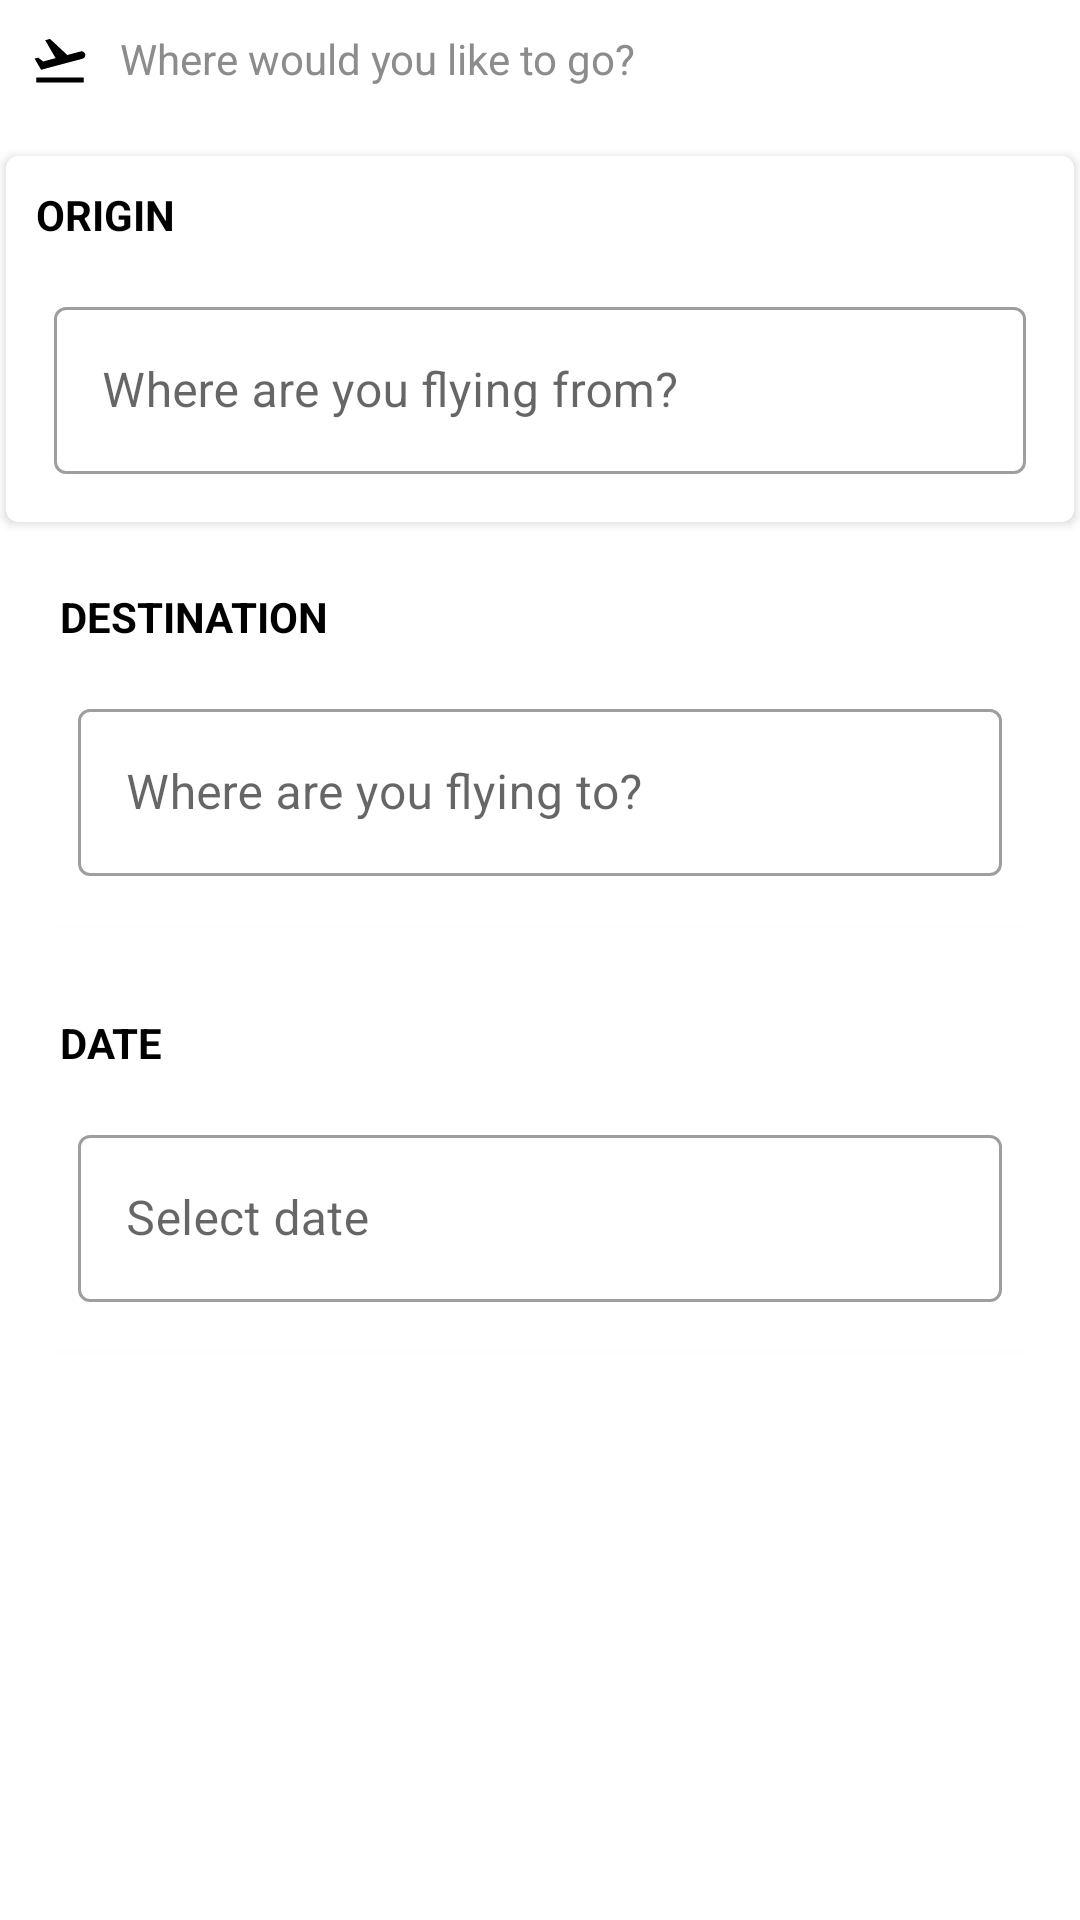

Icons on this 1080×1920 Android screen, each with its box as Rect(x1, y1, x2, y2):
flight takeoff: Rect(34, 39, 86, 83)
